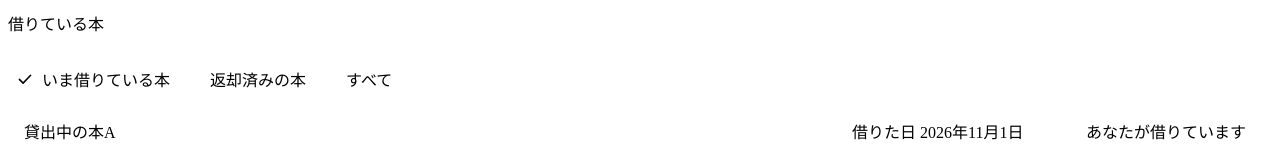
it: LoanListPage › LL-07: 「返却済みの本」を押すと、返却済みの本だけを表示し、そのチップだけが選ばれる
Expected: the text "貸出中の本A" is shown, [24,124,116,141]
What coordinates should you click on to do the following:
click the button "返却済みの本"
I would click on:
 (258, 79)
Its box is [194,63,322,95].
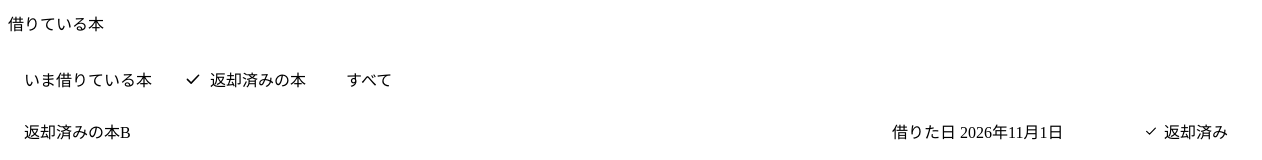
Result: the text "返却済みの本B" is shown at [24,124,131,141]
Result: the link "貸出中の本A" is gone
